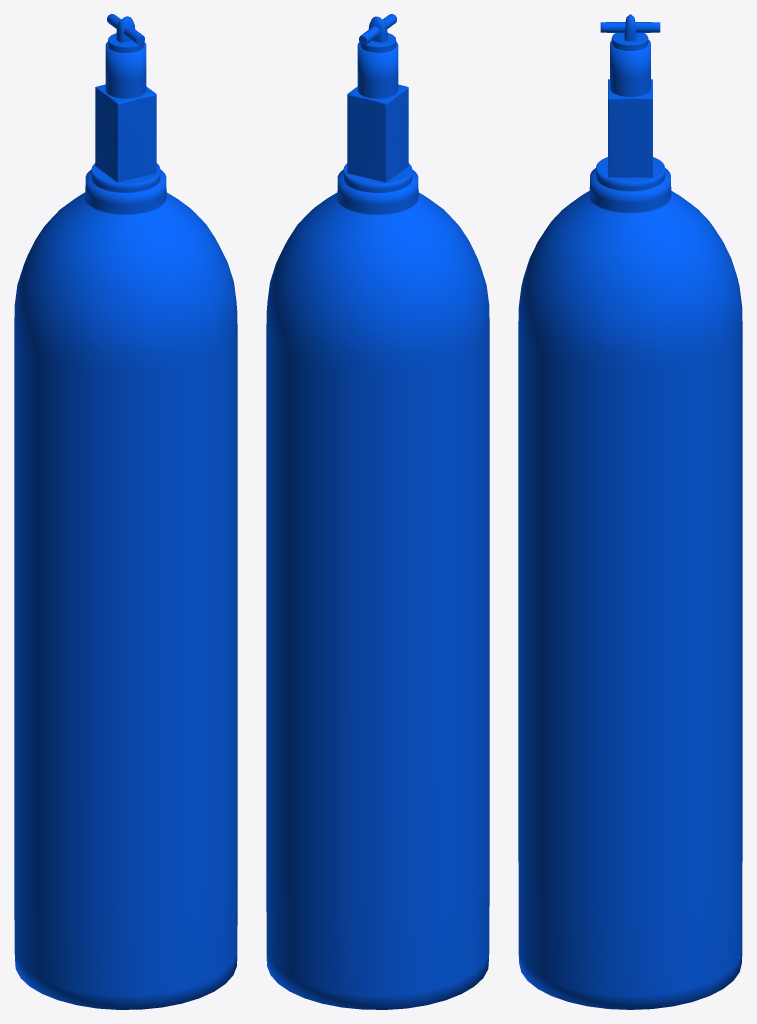
Rendered from Bombona.fbx.
3 renders of one model, left to right at view 1: azimuth 30°, elevation 25°; view 2: azimuth 150°, elevation 25°; view 3: azimuth 270°, elevation 25°, orthographic.
Parts seen in each view (by area): view 1: Bombona; view 2: Bombona; view 3: Bombona.
Boxes of the visible parts, <box> form: Bombona: <box>14,14,237,1009</box>; Bombona: <box>266,14,489,1009</box>; Bombona: <box>518,14,742,1009</box>.
Size of the model in its own units: 0.1604 by 0.75 by 0.1604.
